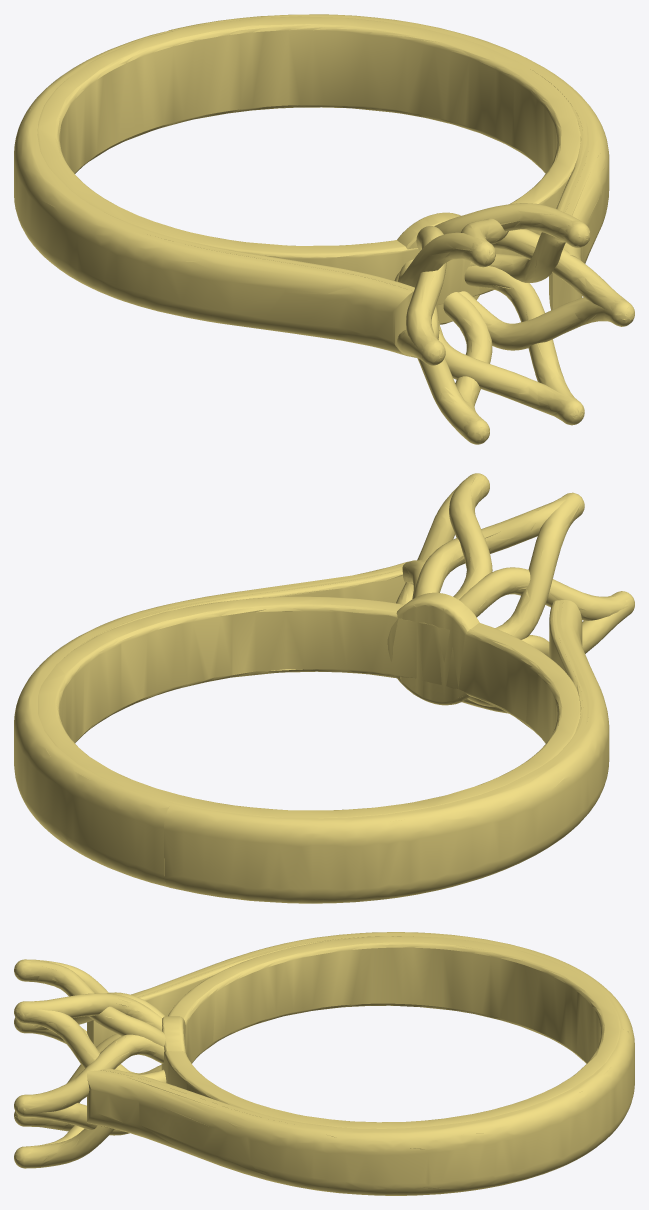
3 views of the same model, one above another, from view 1: azimuth 30°, elevation 25°; view 2: azimuth 150°, elevation 25°; view 3: azimuth 270°, elevation 25° (orthographic). The views are drawn at different scales.
Parts seen in each view (by area): view 1: lr-0037; view 2: lr-0037; view 3: lr-0037.
Boxes of the visible parts, x1,y1,x2,y2 form: lr-0037: (14,14,634,444); lr-0037: (14,473,634,903); lr-0037: (14,932,634,1195).
Bounding box in the file's own units: 0.8038 × 0.3036 × 1.
